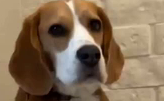Dog: (19, 2, 123, 86)
